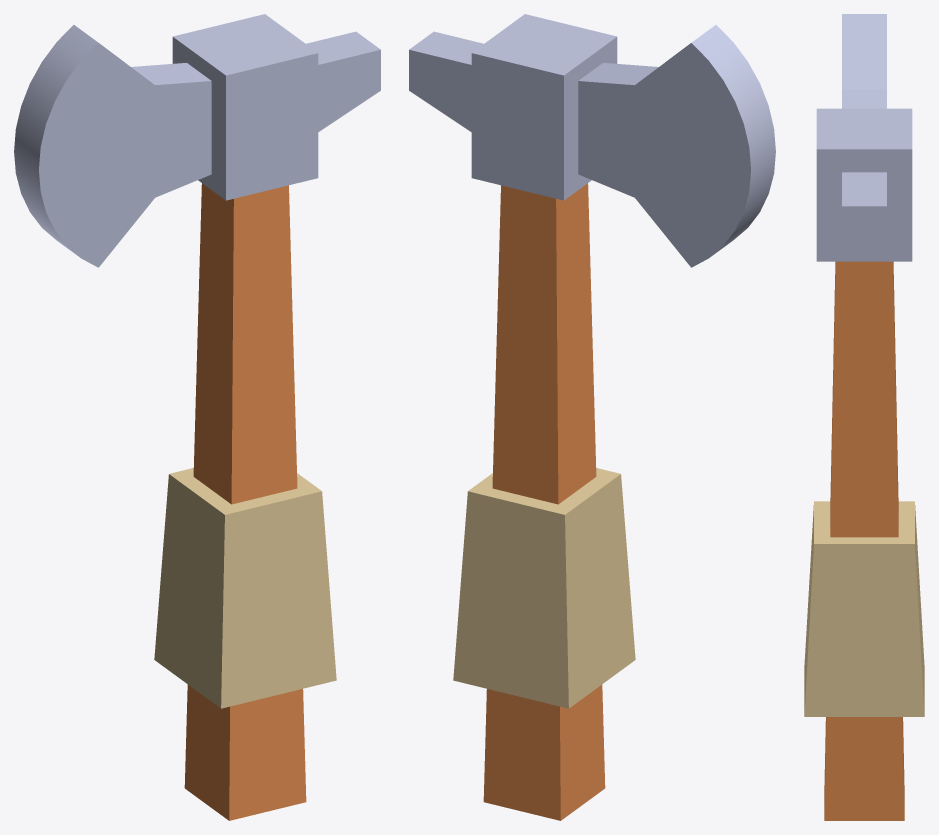
File: toolAxe.obj
3 renders of one model, left to right at view 1: azimuth 30°, elevation 25°; view 2: azimuth 150°, elevation 25°; view 3: azimuth 270°, elevation 25°, orthographic. The views are drawn at different scales.
Visible parts, largest first — view 1: toolAxe; view 2: toolAxe; view 3: toolAxe.
Boxes of the visible parts, x1,y1,x2,y2 form: toolAxe: (14, 14, 380, 820); toolAxe: (409, 14, 775, 820); toolAxe: (804, 14, 924, 820).
Size of the model in its own units: 0.1145 by 0.256 by 0.0387.
